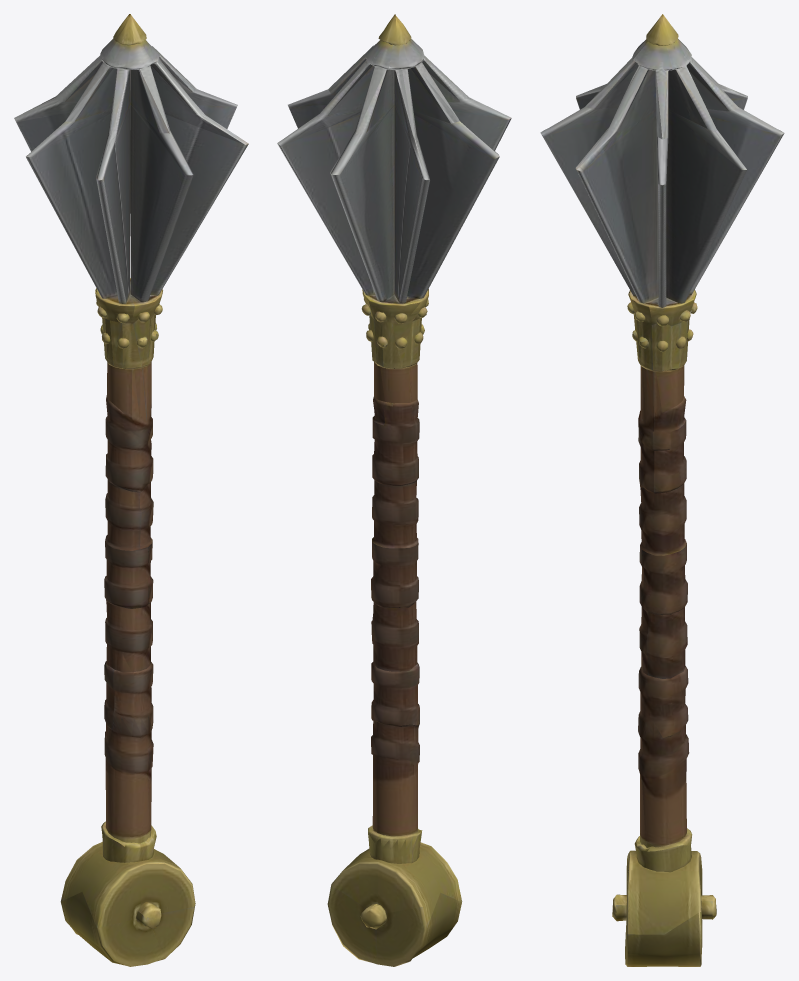
The model's file is war-mace.glb.
The picture shows the model from 3 angles, left to right: view 1: azimuth 30°, elevation 25°; view 2: azimuth 150°, elevation 25°; view 3: azimuth 270°, elevation 25°; orthographic projection.
Visible parts, largest first — view 1: mesh_node; view 2: mesh_node; view 3: mesh_node.
Part boxes in pixels (<box>): mesh_node: <box>14,14,248,966</box>; mesh_node: <box>277,14,511,966</box>; mesh_node: <box>540,14,784,966</box>.
Bounding box in the file's own units: 0.1661 × 0.7 × 0.1641.
Materials: 1 (1 with a texture image).
